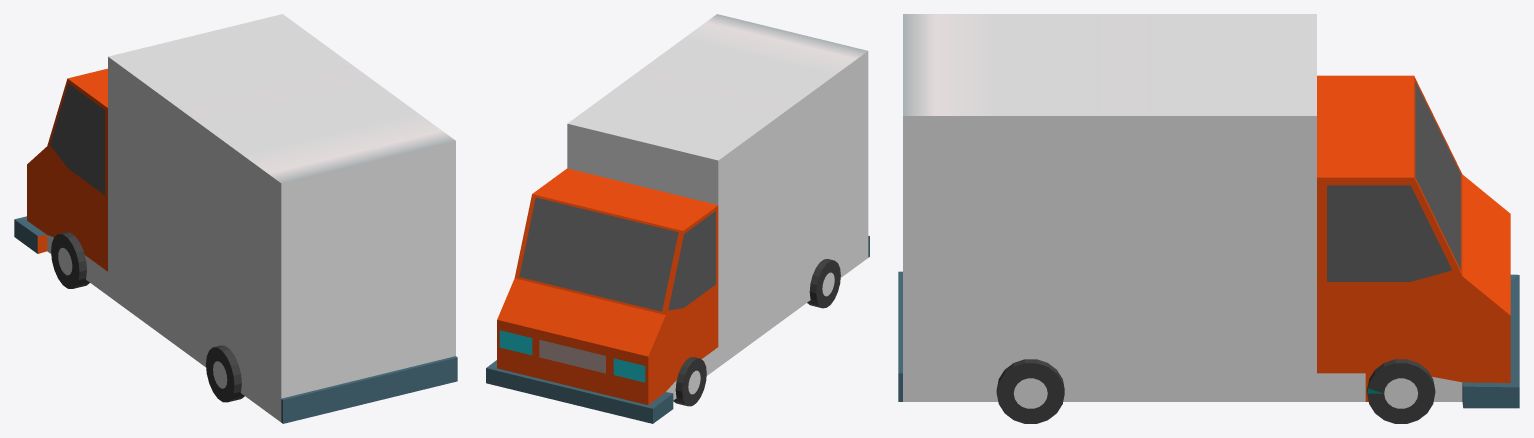
Rendered from car_08_world_ap.16_0_lev1.glb.
The picture shows the model from 3 angles, left to right: view 1: azimuth 30°, elevation 25°; view 2: azimuth 150°, elevation 25°; view 3: azimuth 270°, elevation 25°; orthographic projection. The views are drawn at different scales.
Visible parts, largest first — view 1: car_08_world_ap.16_0_lev1; view 2: car_08_world_ap.16_0_lev1; view 3: car_08_world_ap.16_0_lev1.
Boxes of the visible parts, bbox=[...] form: car_08_world_ap.16_0_lev1: bbox=[14, 14, 457, 423]; car_08_world_ap.16_0_lev1: bbox=[486, 14, 869, 423]; car_08_world_ap.16_0_lev1: bbox=[898, 14, 1519, 423].
Bounding box in the file's own units: 0.7933 × 0.9995 × 1.85.
Materials: 1 (1 with a texture image).
